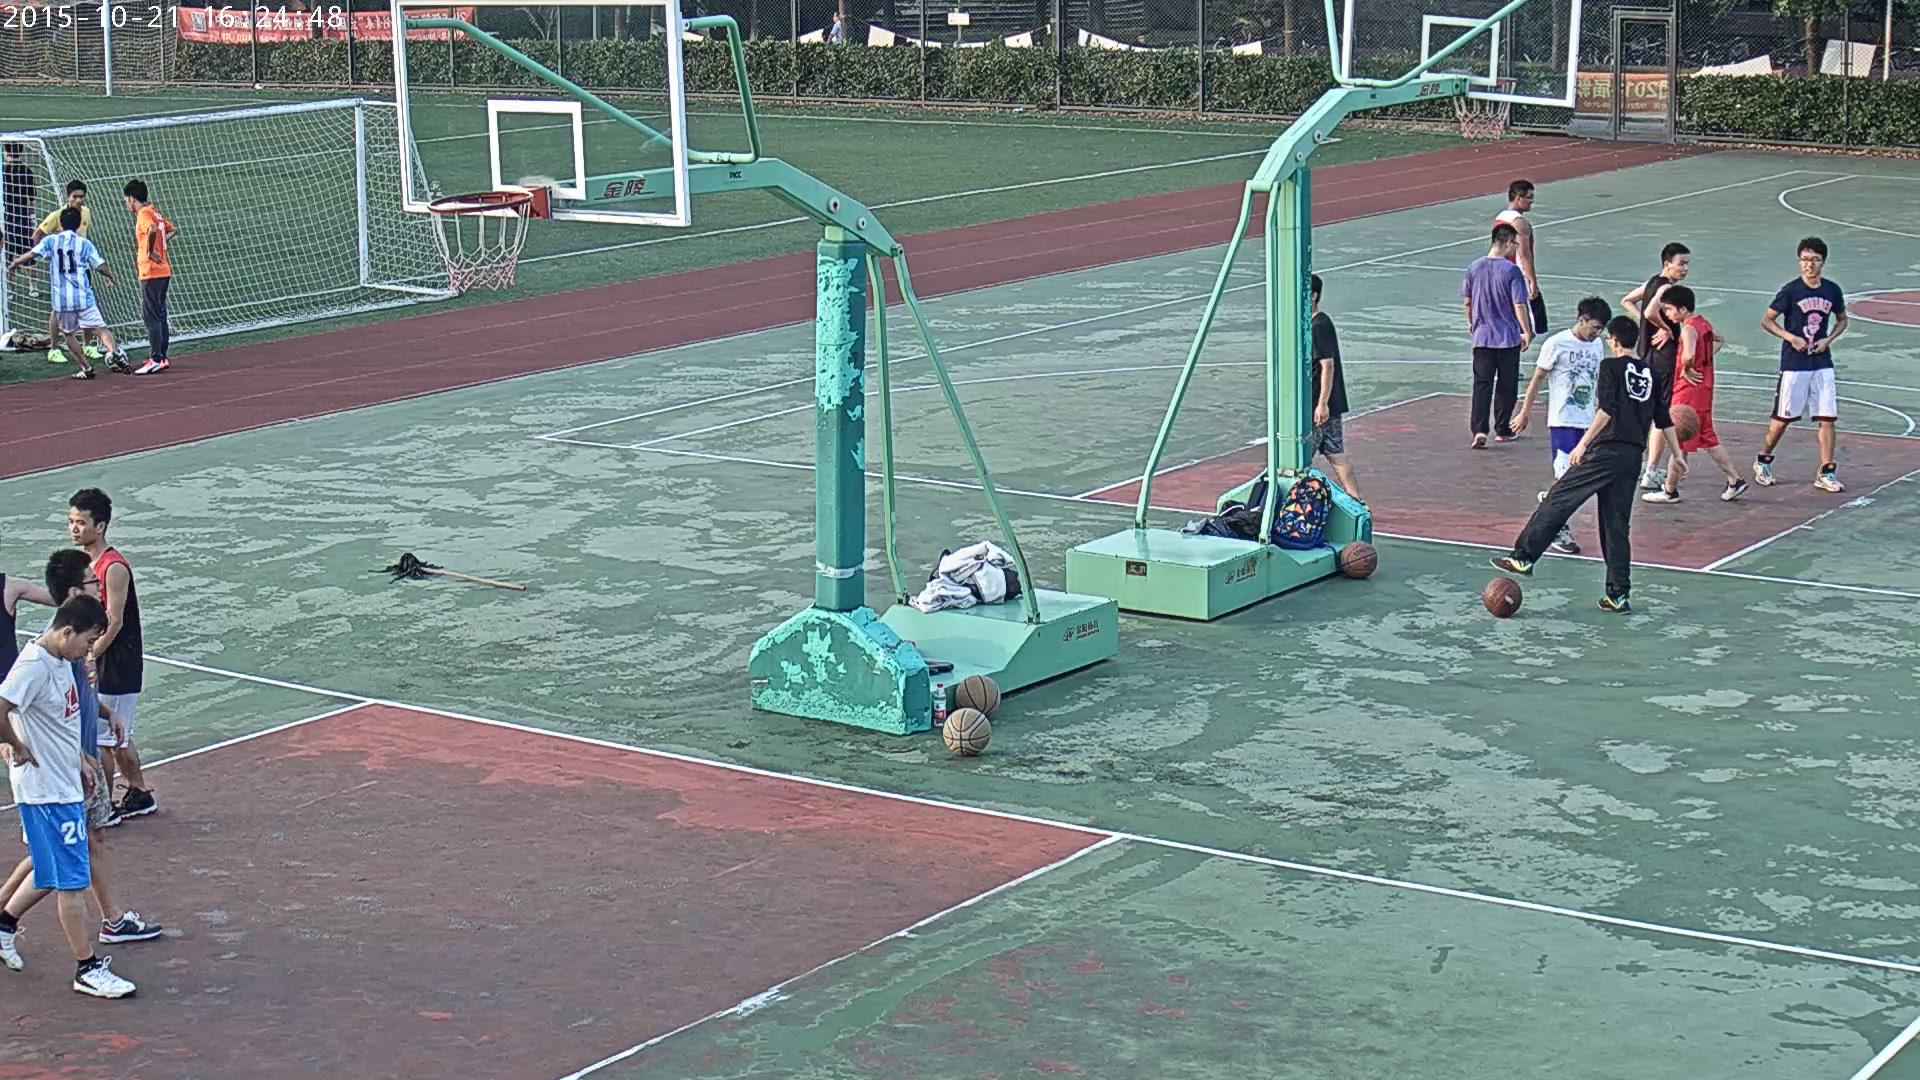face: (69, 504, 97, 546), (69, 625, 102, 658), (78, 566, 104, 603), (1801, 248, 1822, 277), (1668, 253, 1689, 279), (1584, 317, 1606, 340), (1665, 303, 1682, 322), (70, 189, 85, 209), (1520, 188, 1533, 209), (123, 194, 132, 211), (1510, 236, 1517, 255), (1607, 332, 1613, 353), (831, 11, 837, 21), (1139, 35, 1147, 44), (2, 146, 6, 161)
